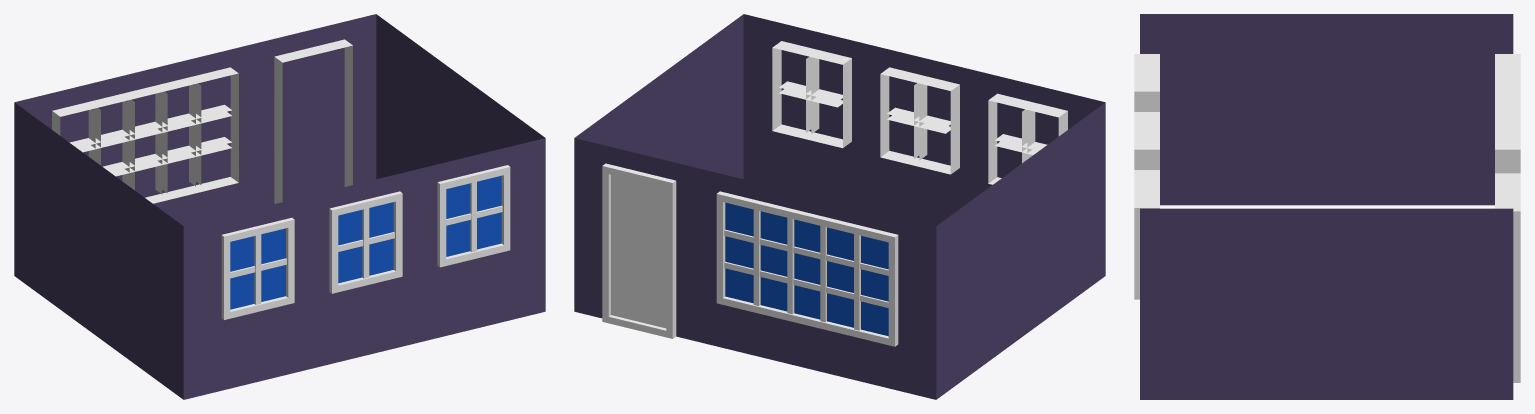
Rendered from CityBuildingB_03_base.fbx.
3 renders of one model, left to right at view 1: azimuth 30°, elevation 25°; view 2: azimuth 150°, elevation 25°; view 3: azimuth 270°, elevation 25°, orthographic. The views are drawn at different scales.
Parts seen in each view (by area): view 1: CityBuildingB_03_base; view 2: CityBuildingB_03_base; view 3: CityBuildingB_03_base.
Part boxes in pixels (x1,y1,x2,y2): CityBuildingB_03_base: [14, 14, 545, 399]; CityBuildingB_03_base: [574, 14, 1105, 399]; CityBuildingB_03_base: [1134, 14, 1520, 399].
Bounding box in the file's own units: 0.6706 × 0.3075 × 0.563.
